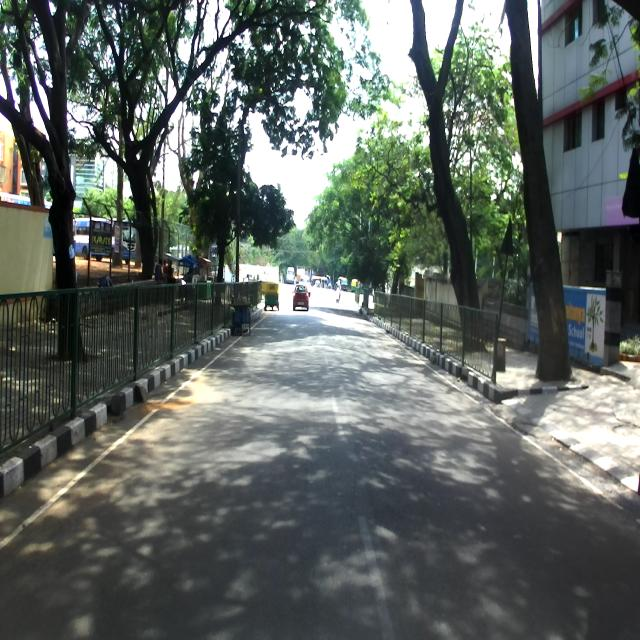tree ahead at: (501, 8, 576, 377), (406, 5, 487, 302)
